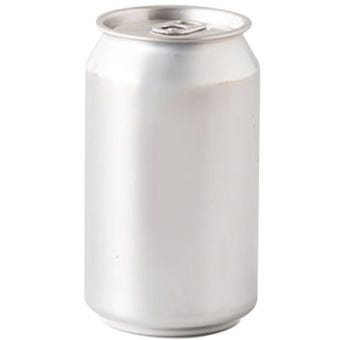paper: (80, 4, 263, 340)
